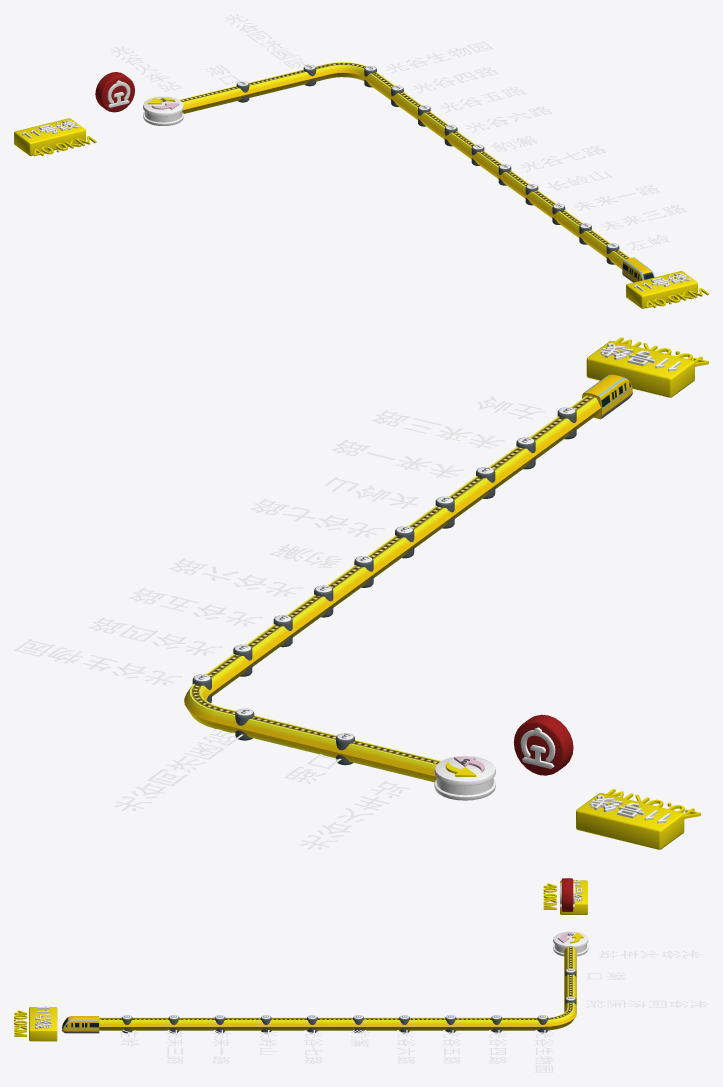
The picture shows the model from 3 angles, top to bottom: view 1: azimuth 30°, elevation 25°; view 2: azimuth 150°, elevation 25°; view 3: azimuth 270°, elevation 25°; orthographic projection. The views are drawn at different scales.
Parts seen in each view (by area): view 1: 11号线, psop-whgj-gghcz-光谷火车站, Box013, Box008, 光谷火车站标识, psop-whgj-ggtjyy-光谷同济医院, psop-whgj-ggswy-光谷生物园, psop-whgj-ggsl-光谷四路, 11号线车头01, psop-whgj-ggwl-光谷五路, psop-whgj-wlsl-未来三路, psop-whgj-ggql-光谷七路 (+2 smaller); view 2: 11号线, Box013, psop-whgj-gghcz-光谷火车站, Box008, 光谷火车站标识, psop-whgj-ggtjyy-光谷同济医院, psop-whgj-ggswy-光谷生物园, 11号线车头01, psop-whgj-ggsl-光谷四路, psop-whgj-ggwl-光谷五路, psop-whgj-wlsl-未来三路, psop-whgj-ggql-光谷七路 (+6 smaller); view 3: 11号线, psop-whgj-gghcz-光谷火车站, Box008, 11号线车头01, psop-whgj-ggtjyy-光谷同济医院, psop-whgj-ggswy-光谷生物园, Box013, 光谷火车站标识, psop-whgj-ggsl-光谷四路, psop-whgj-ggwl-光谷五路, psop-whgj-ggql-光谷七路, psop-whgj-ggll-光谷六路 (+5 smaller).
Part boxes in pixels (x1,y1,x2,y2): 11号线: [179, 62, 629, 269]; psop-whgj-gghcz-光谷火车站: [110, 46, 183, 125]; Box013: [14, 118, 85, 155]; Box008: [626, 271, 697, 308]; 光谷火车站标识: [95, 72, 134, 112]; psop-whgj-ggtjyy-光谷同济医院: [225, 14, 316, 86]; psop-whgj-ggswy-光谷生物园: [364, 41, 493, 87]; psop-whgj-ggsl-光谷四路: [391, 67, 498, 106]; 11号线车头01: [622, 257, 654, 282]; psop-whgj-ggwl-光谷五路: [418, 86, 525, 126]; psop-whgj-wlsl-未来三路: [579, 205, 686, 244]; psop-whgj-ggql-光谷七路: [498, 146, 606, 185]; 11号线: [184, 395, 600, 782]; Box013: [576, 793, 684, 849]; psop-whgj-gghcz-光谷火车站: [300, 756, 495, 849]; Box008: [586, 341, 694, 397]; 光谷火车站标识: [513, 714, 573, 775]; psop-whgj-ggtjyy-光谷同济医院: [114, 708, 254, 810]; psop-whgj-ggswy-光谷生物园: [14, 639, 211, 702]; 11号线车头01: [582, 374, 632, 419]; psop-whgj-ggsl-光谷四路: [88, 617, 252, 676]; psop-whgj-ggwl-光谷五路: [128, 588, 292, 647]; psop-whgj-wlsl-未来三路: [371, 410, 535, 469]; psop-whgj-ggql-光谷七路: [250, 499, 414, 558]; 11号线: [99, 946, 576, 1030]; psop-whgj-gghcz-光谷火车站: [553, 931, 701, 958]; Box008: [29, 1007, 57, 1041]; 11号线车头01: [62, 1016, 99, 1033]; psop-whgj-ggtjyy-光谷同济医院: [565, 996, 708, 1008]; psop-whgj-ggswy-光谷生物园: [534, 1015, 553, 1072]; Box013: [560, 880, 587, 914]; 光谷火车站标识: [560, 878, 574, 911]; psop-whgj-ggsl-光谷四路: [488, 1015, 506, 1064]; psop-whgj-ggwl-光谷五路: [442, 1015, 461, 1064]; psop-whgj-ggql-光谷七路: [304, 1015, 322, 1064]; psop-whgj-ggll-光谷六路: [396, 1015, 415, 1064].
Bounding box in the file's own units: 1.4 × 0.1745 × 2.17.
Materials: 8 (3 with a texture image).
